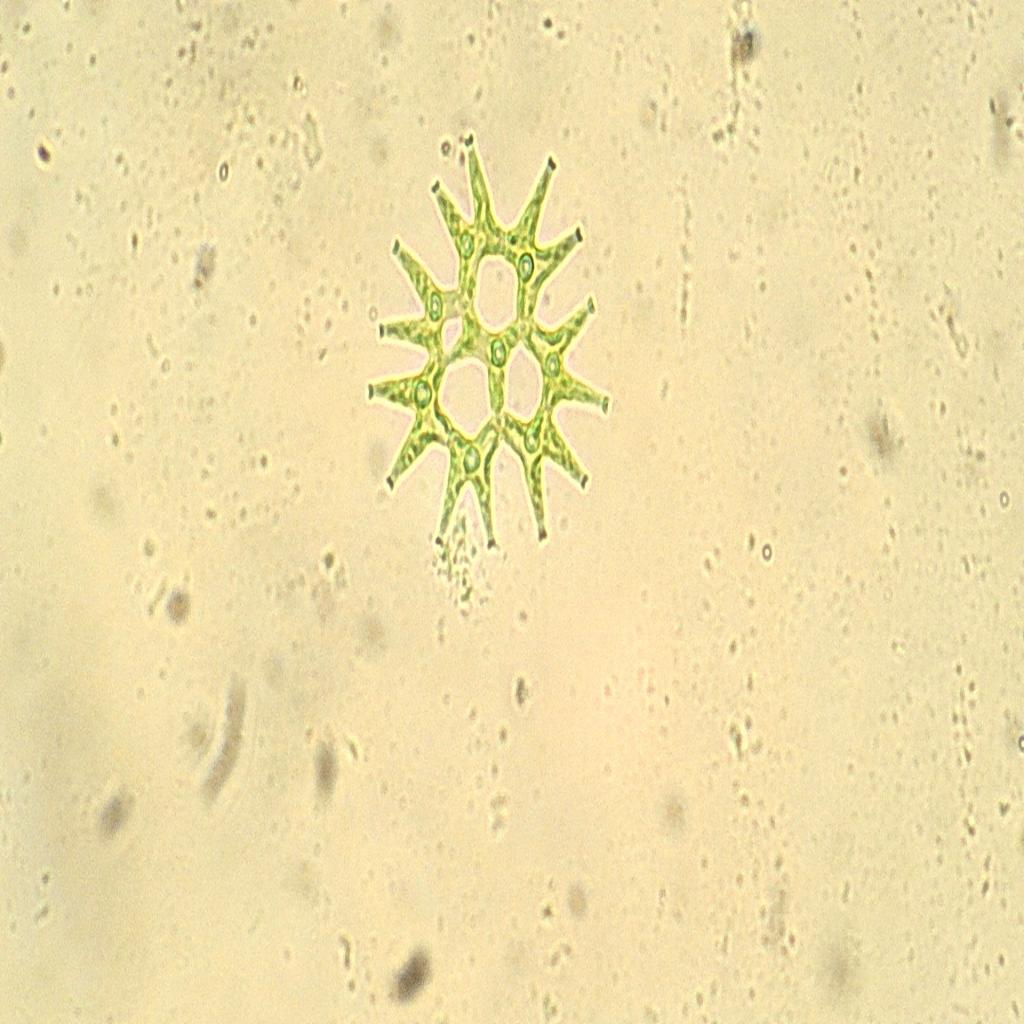Pediastrum_75T: (360, 128, 618, 572)
